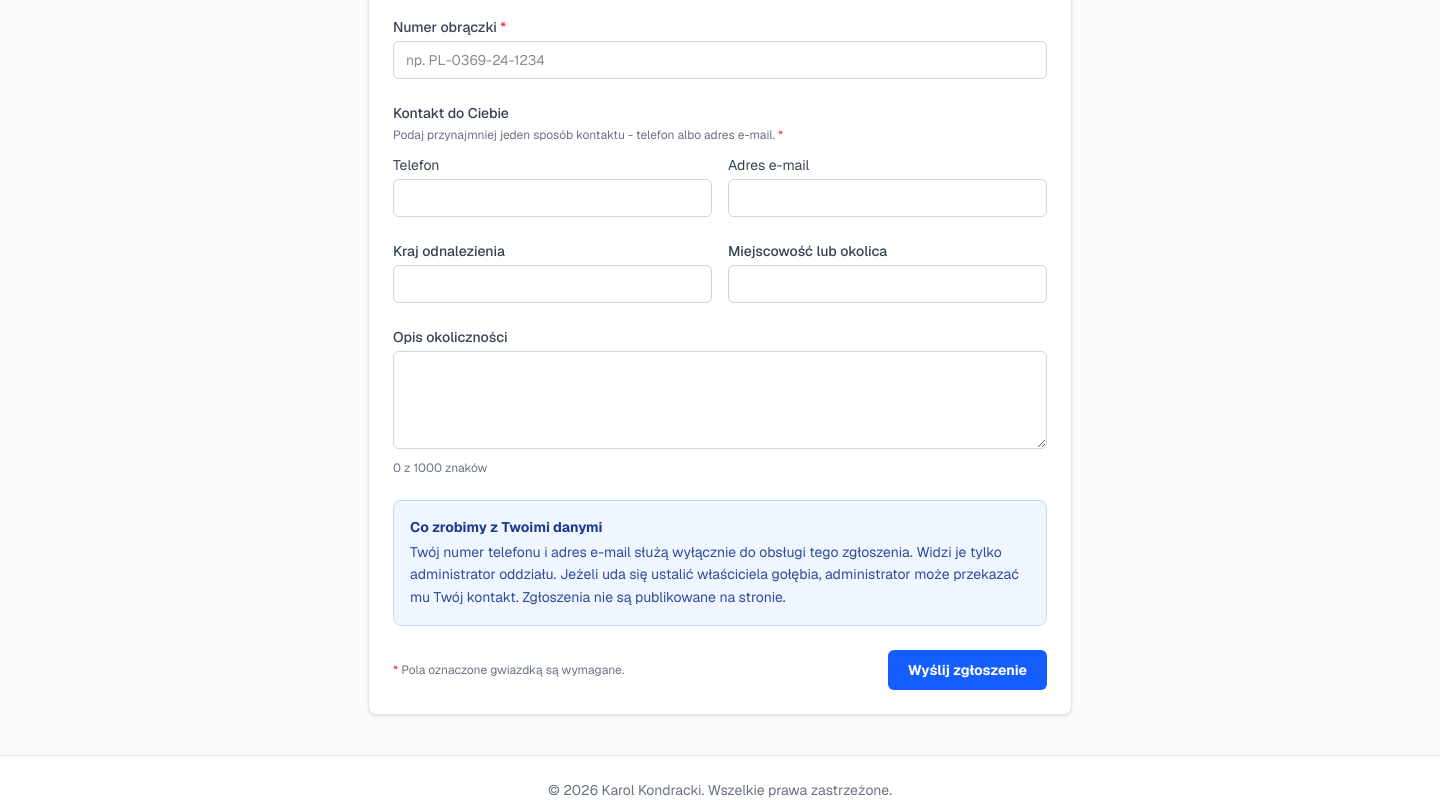
Found Pigeons Page Tests › Should update the description character counter
(page scrolled)
Type "Testowy opis znalezionego gołębia." into the text box with id "description".
click(720, 400); type("Testowy opis znalezionego gołębia.")  # box [393, 351, 1047, 449]
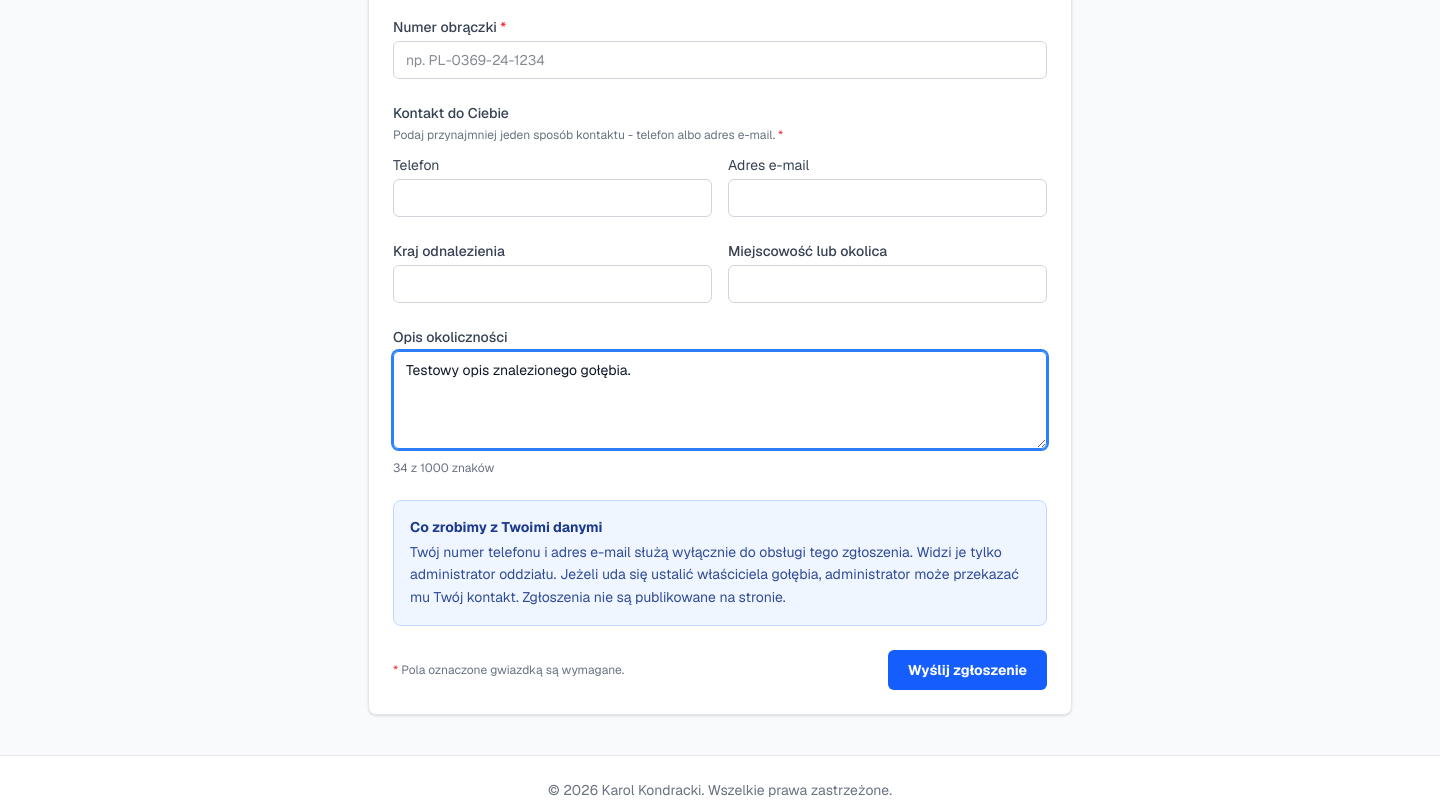
Expected: the text "34 z 1000 znaków" is shown, [393, 460, 494, 476]
